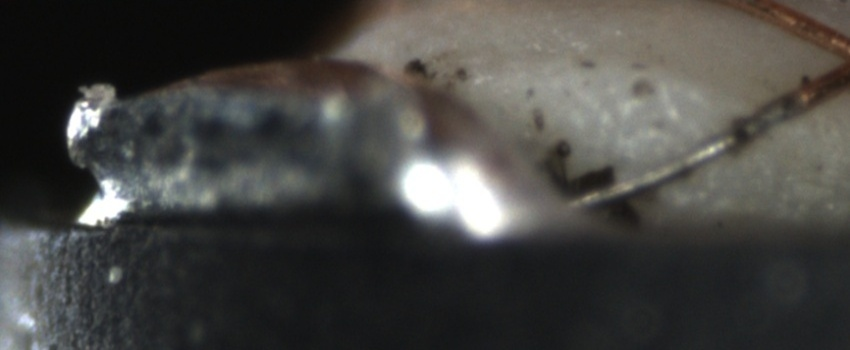CL: (811, 22, 850, 98)
TS: (569, 91, 802, 208)
